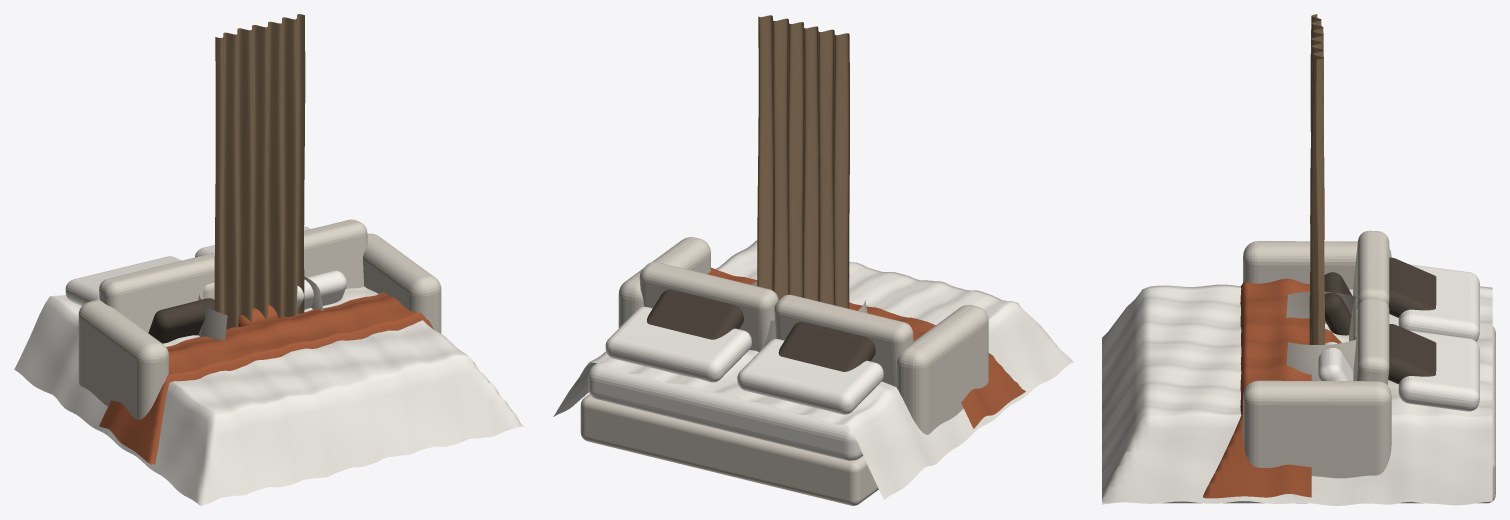
File: northpark-furnishings.glb
The picture shows the model from 3 angles, left to right: view 1: azimuth 30°, elevation 25°; view 2: azimuth 150°, elevation 25°; view 3: azimuth 270°, elevation 25°; orthographic projection. The views are drawn at different scales.
Parts seen in each view (by area): view 1: Bed, Curtain, Sofa, ClubChair; view 2: Bed, Curtain, Sofa; view 3: Bed, Sofa, Curtain, ClubChair.
Part boxes in pixels (x1,y1,x2,y2): Bed: (14,226,524,505); Curtain: (214,14,305,329); Sofa: (78,219,441,420); ClubChair: (198,276,323,340); Bed: (553,240,1073,505); Curtain: (757,15,849,308); Sofa: (618,237,988,434); Bed: (1102,257,1495,505); Sofa: (1243,230,1391,478); Curtain: (1309,14,1324,344); ClubChair: (1286,291,1357,380).
Size of the model in its own units: 2.38 by 2.95 by 2.36.
